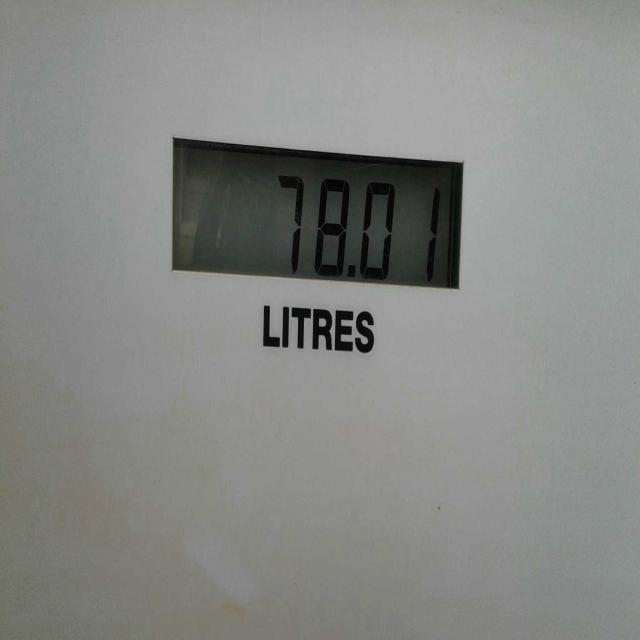.: (344, 259, 361, 289)
0: (357, 170, 395, 288)
1: (422, 174, 442, 288)
7: (272, 166, 308, 283)
8: (306, 162, 352, 278)
